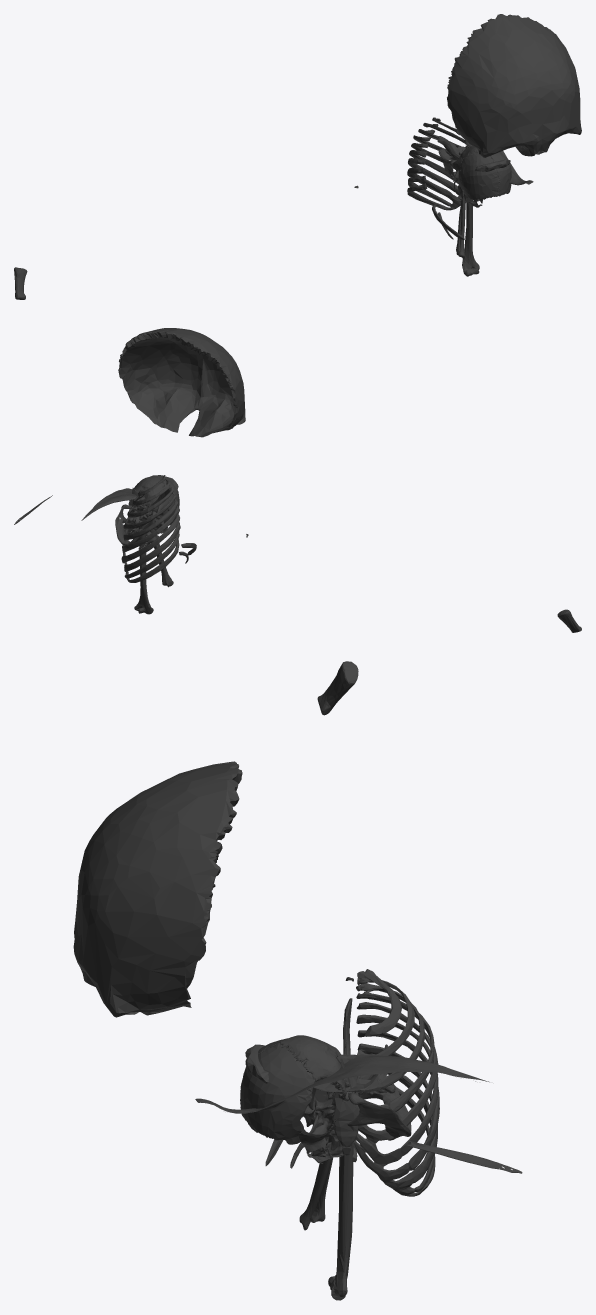
File: sharedassets58.glb
3 renders of one model, top to bottom at view 1: azimuth 30°, elevation 25°; view 2: azimuth 150°, elevation 25°; view 3: azimuth 270°, elevation 25°, orthographic. The views are drawn at different scales.
Parts seen in each view (by area): view 1: 0110_Frontal__001097, 0098_Parietal, R__001095, 0005_Humerus _arm, brachium_, R__000807, 0099_Parietal, L__001094, 0190_Eighth rib _08_, R__002280, 0199_Seventh rib _07_, R__002279; view 2: 0110_Frontal__001097, 0005_Humerus _arm, brachium_, R__000807, 0002_Trapezius, R__1000437, 0190_Eighth rib _08_, R__002280, 0199_Seventh rib _07_, R__002279, 0100_Occipital__001132, 0094_Mandible_body_001091, 0198_Sixth rib _06_, R__002278; view 3: 0110_Frontal__001097, 0099_Parietal, L__001094, 0002_Trapezius, R__1000437, 0005_Humerus _arm, brachium_, R__000807, 0100_Occipital__001132, 0094_Mandible_body_001091, 0198_Sixth rib _06_, R__002278, 0199_Seventh rib _07_, R__002279, 0197_Fifth rib _05_, R__002277, 0148_Sphenoid__001143, 0187_Body of sternum__001163, 0190_Eighth rib _08_, R__002280 (+5 smaller).
Part boxes in pixels (x1,y1,x2,y2): 0110_Frontal__001097: (447,14,581,157); 0098_Parietal, R__001095: (460,152,499,200); 0005_Humerus _arm, brachium_, R__000807: (462,202,479,276); 0099_Parietal, L__001094: (490,152,511,196); 0190_Eighth rib _08_, R__002280: (407,167,461,206); 0199_Seventh rib _07_, R__002279: (408,158,459,195); 0110_Frontal__001097: (118,328,245,437); 0005_Humerus _arm, brachium_, R__000807: (134,506,153,614); 0002_Trapezius, R__1000437: (81,488,169,520); 0190_Eighth rib _08_, R__002280: (124,522,180,572); 0199_Seventh rib _07_, R__002279: (121,514,179,563); 0100_Occipital__001132: (128,476,164,512); 0094_Mandible_body_001091: (115,504,156,545); 0198_Sixth rib _06_, R__002278: (122,506,179,552); 0110_Frontal__001097: (73,761,242,1017); 0099_Parietal, L__001094: (240,1043,315,1144); 0002_Trapezius, R__1000437: (195,1054,489,1113); 0005_Humerus _arm, brachium_, R__000807: (328,1145,353,1300); 0100_Occipital__001132: (280,1035,346,1104); 0094_Mandible_body_001091: (347,1083,411,1140); 0198_Sixth rib _06_, R__002278: (355,1014,438,1166); 0199_Seventh rib _07_, R__002279: (352,1030,439,1182); 0197_Fifth rib _05_, R__002277: (357,1002,438,1143); 0148_Sphenoid__001143: (298,1099,336,1153); 0187_Body of sternum__001163: (332,1054,359,1146); 0190_Eighth rib _08_, R__002280: (357,1043,437,1191).
Bounding box in the file's own units: 0.7785 × 0.3779 × 0.2917.
Materials: 1 (1 with a texture image).
